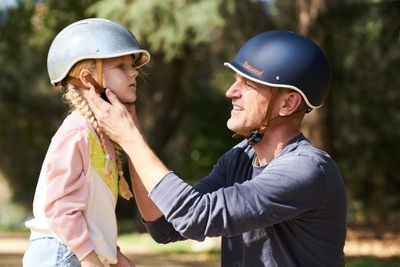helmet: (222, 30, 332, 132), (47, 18, 151, 103)
